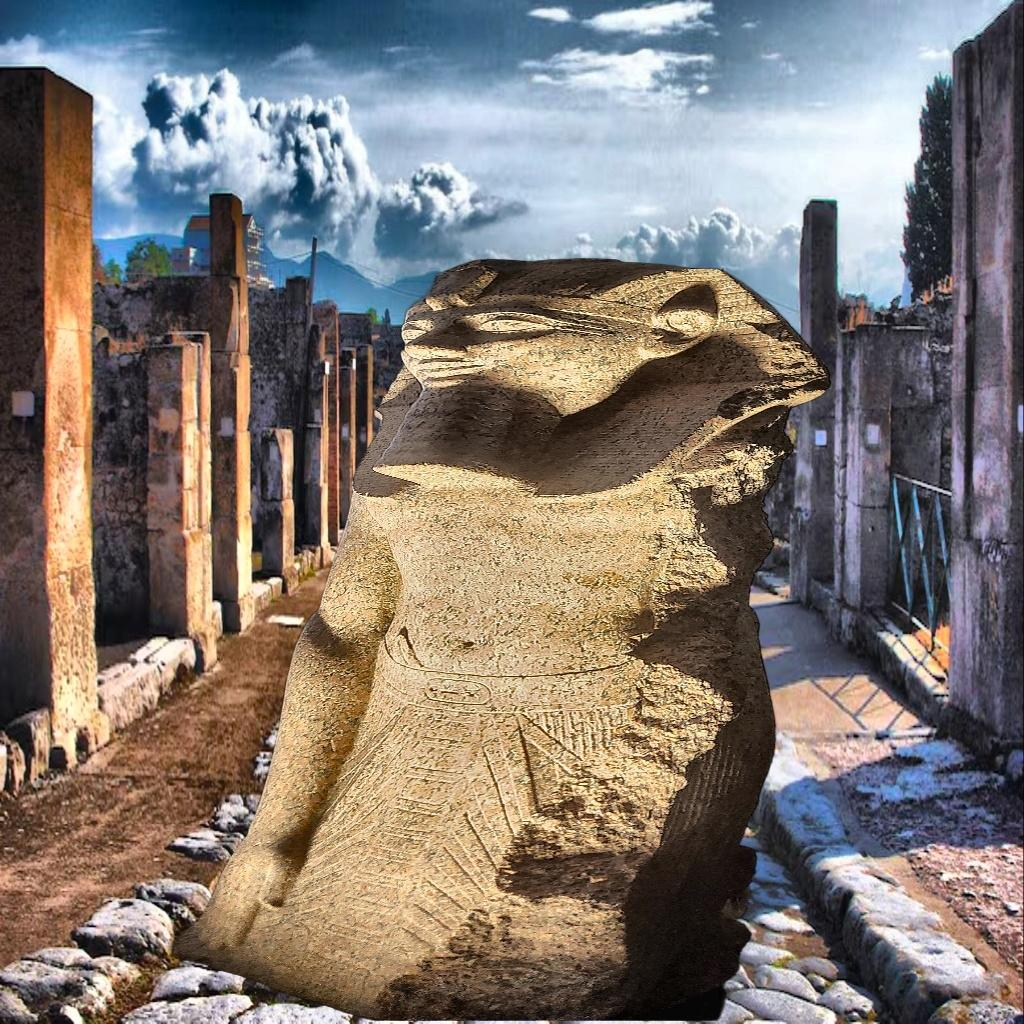Standing Statue of Thutmose III: (158, 254, 835, 1020)
